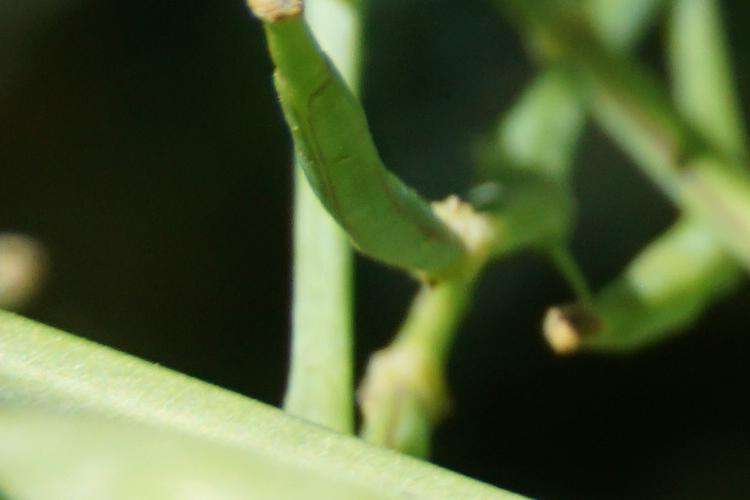pod: (246, 9, 473, 280), (545, 218, 730, 365)
